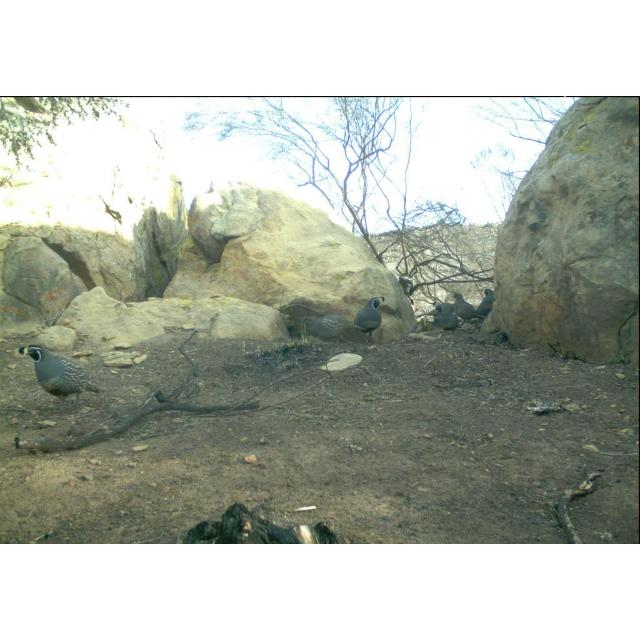animals: (15, 340, 104, 406), (428, 286, 496, 334), (354, 293, 386, 345)
